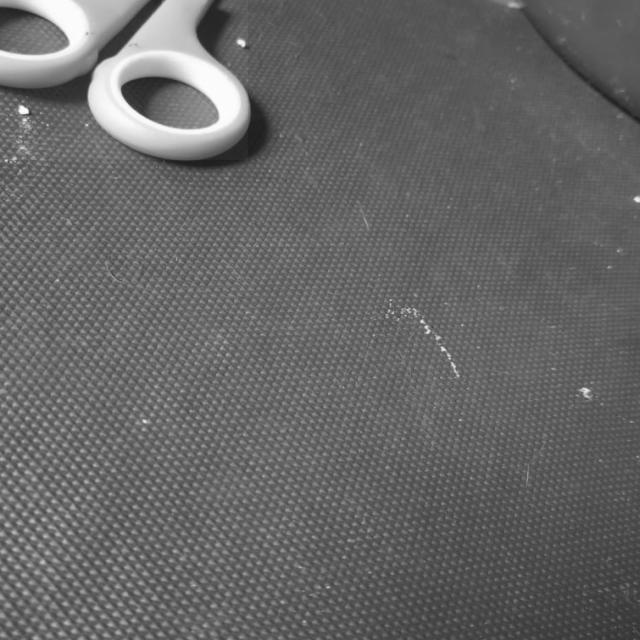tesoura: (0, 0, 248, 160)
